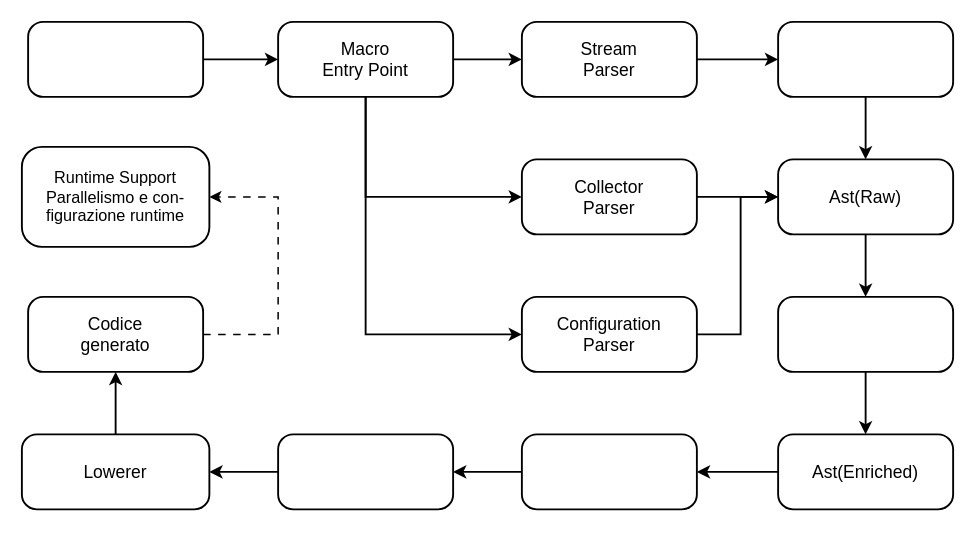
Image size: 976x533. Some labels were removed from this diagram. The shapes that lost their labels are listed below. From the top down, each one's box as (x1, y1, x2, y2) in pixels, then its label:
(27, 20, 204, 97): Public API e DSL
(777, 20, 954, 97): Stream IR
(777, 295, 954, 372): Enrichment
(277, 433, 454, 510): OP IR
(520, 433, 697, 510): Planner
